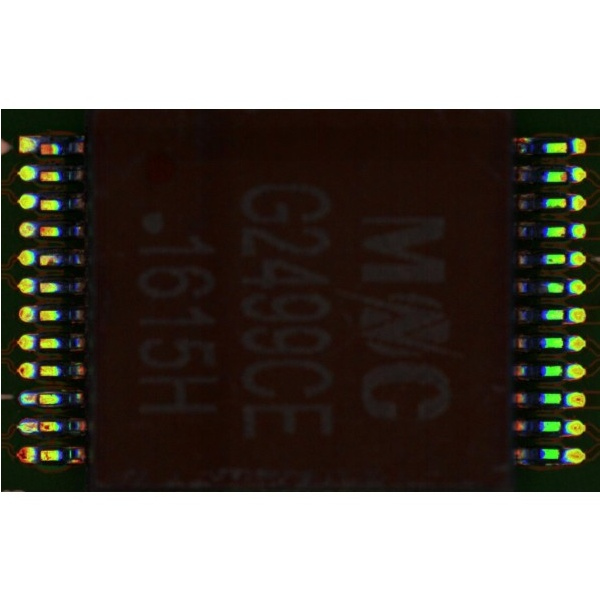Bad_podu: (27, 420, 49, 428), (25, 395, 48, 401)
